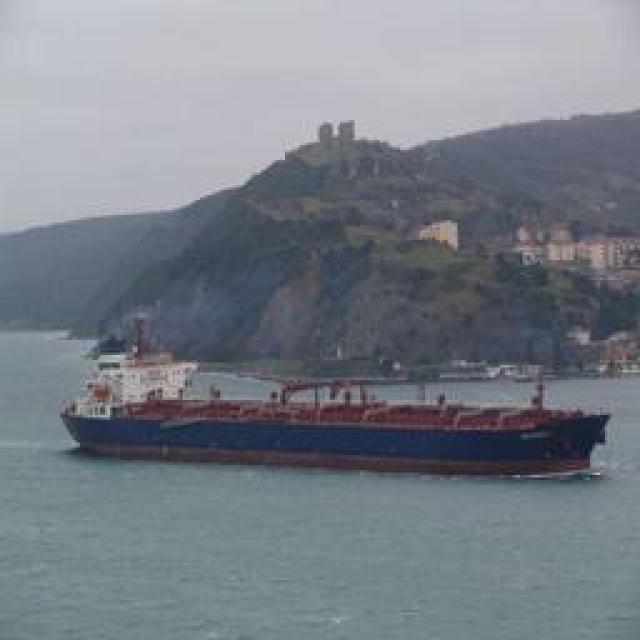CIV_Ship: (66, 322, 609, 476)
